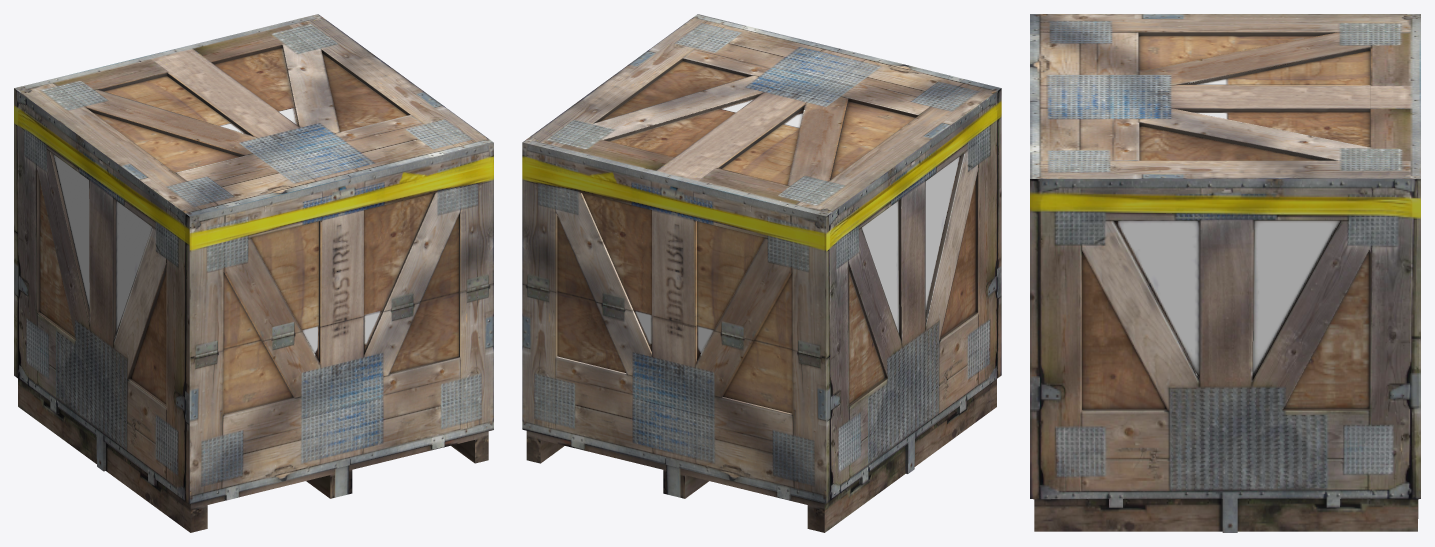
File: crate01.FBX
3 renders of one model, left to right at view 1: azimuth 30°, elevation 25°; view 2: azimuth 150°, elevation 25°; view 3: azimuth 270°, elevation 25°, orthographic. The views are drawn at different scales.
Parts seen in each view (by area): view 1: crate01; view 2: crate01; view 3: crate01.
Boxes of the visible parts, bbox=[...] form: crate01: bbox=[14, 14, 493, 532]; crate01: bbox=[522, 14, 1001, 532]; crate01: bbox=[1030, 14, 1420, 532].
Size of the model in its own units: 71.39 by 71.39 by 71.39.
